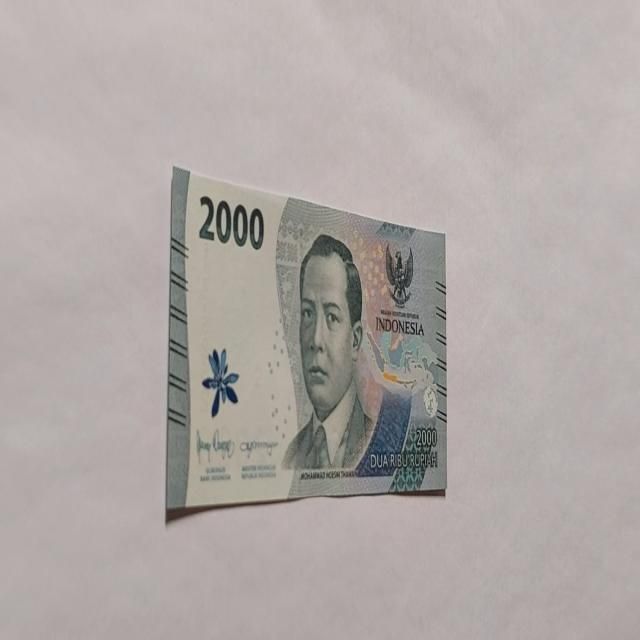dua ribu rupiah: (165, 164, 449, 521), (280, 232, 376, 476)
